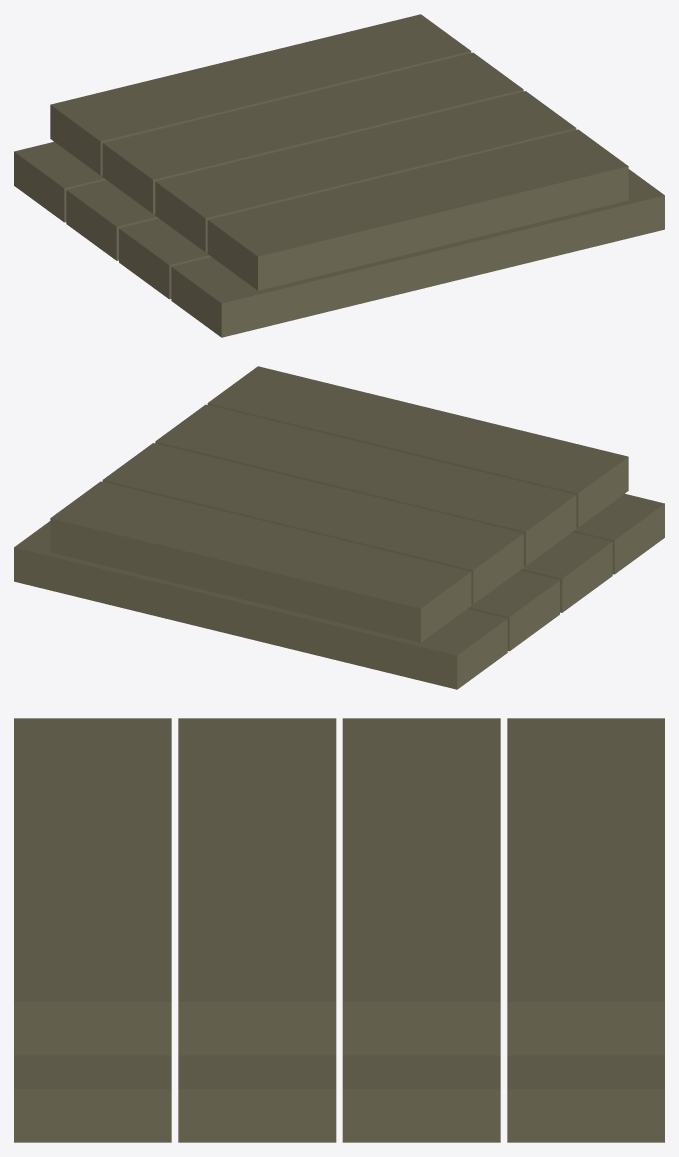
Rendered from SM_BanquetaCorta_v1_LOD1.fbx.
3 views of the same model, one above another, from view 1: azimuth 30°, elevation 25°; view 2: azimuth 150°, elevation 25°; view 3: azimuth 270°, elevation 25° (orthographic). The views are drawn at different scales.
Visible parts, largest first — view 1: SM_banqueta_tiro_v11_LOD1; view 2: SM_banqueta_tiro_v11_LOD1; view 3: SM_banqueta_tiro_v11_LOD1.
Boxes of the visible parts, x1,y1,x2,y2 form: SM_banqueta_tiro_v11_LOD1: (14, 14, 664, 337); SM_banqueta_tiro_v11_LOD1: (14, 366, 664, 689); SM_banqueta_tiro_v11_LOD1: (14, 718, 664, 1142).
Size of the model in its own units: 2.44 by 0.38 by 1.98.
